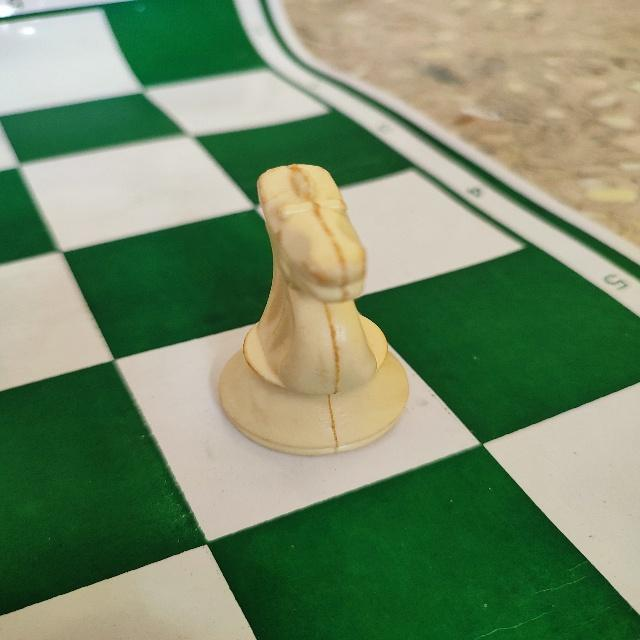Knight: (209, 158, 412, 463)
